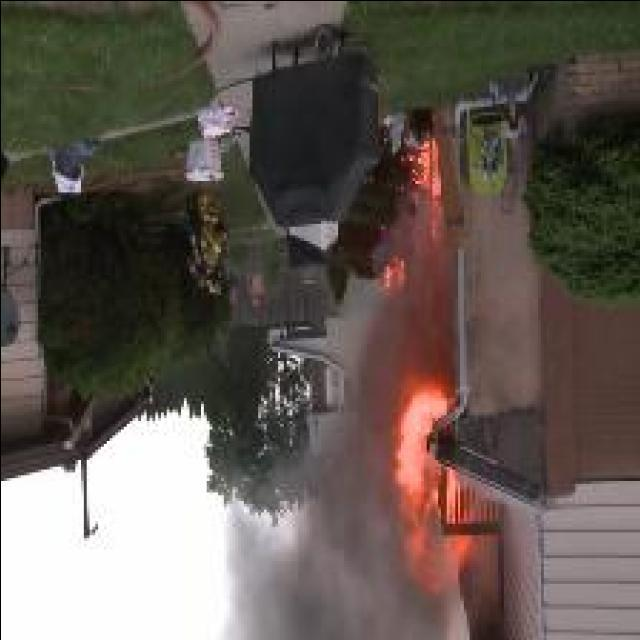Fire: (394, 383, 469, 591), (406, 134, 443, 240), (379, 256, 412, 293)
